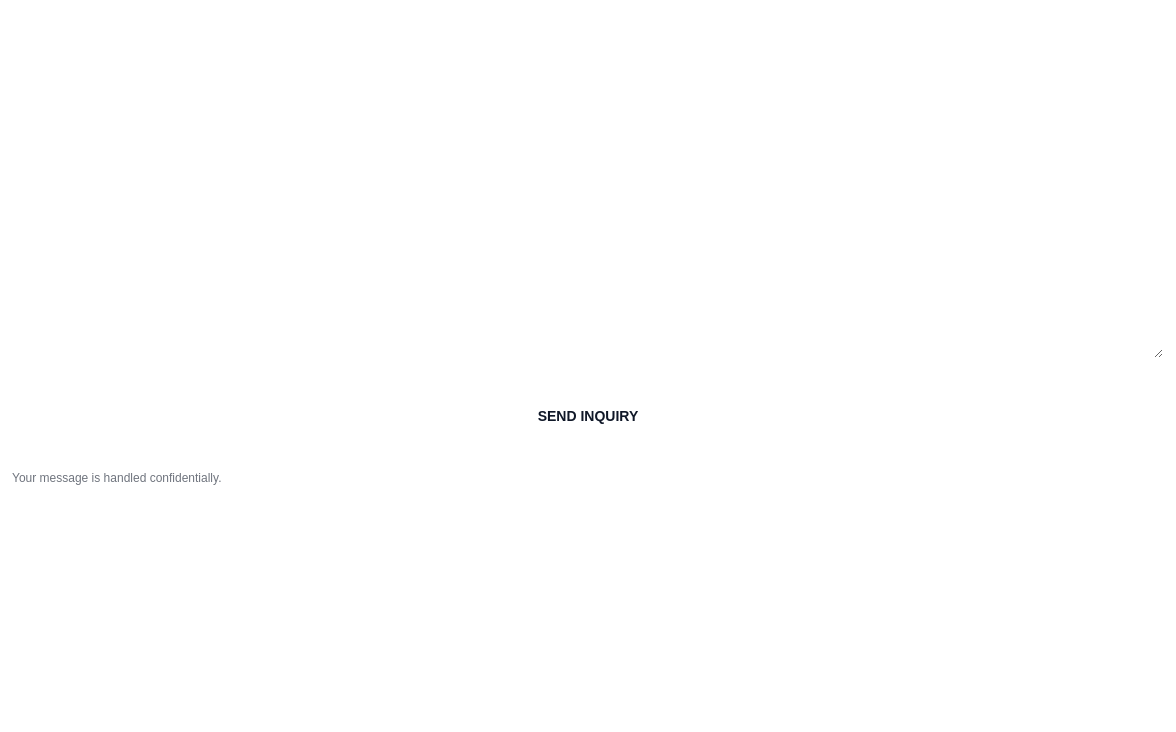
ContactInquiryForm › focuses and announces the first invalid field
Click the button "Send inquiry": click(588, 416) [12,391,1164,442]
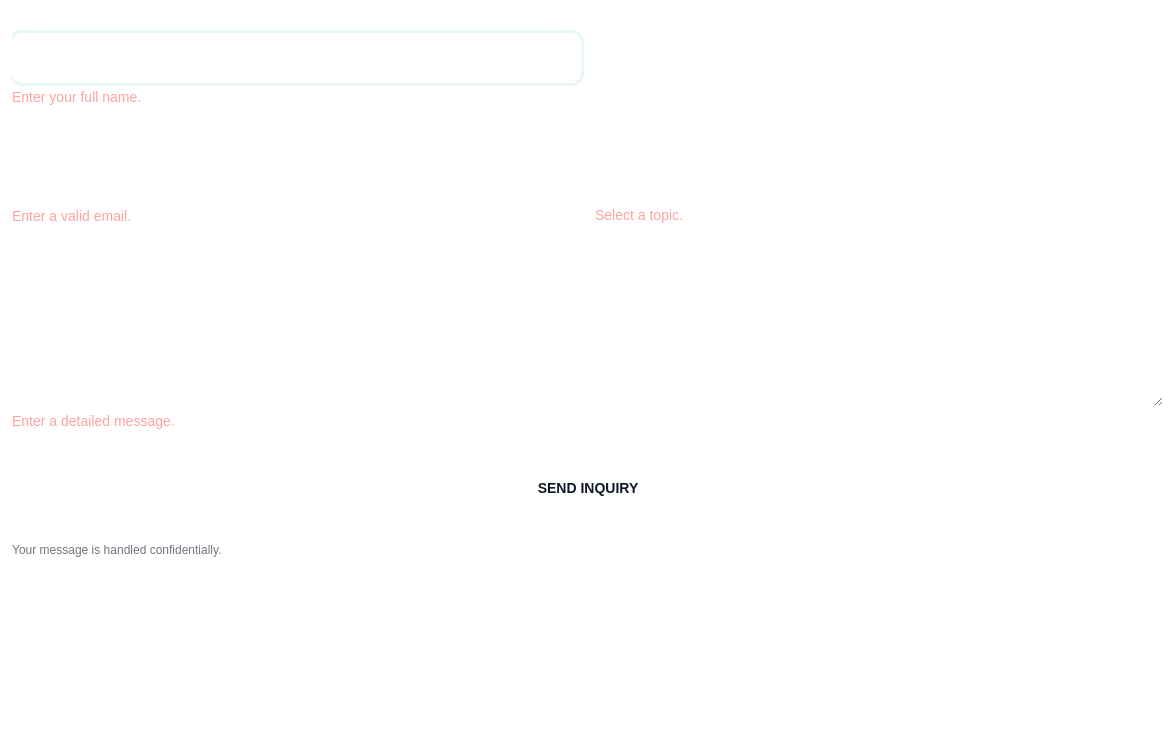
expect the text "Enter your full name." is shown: met, box [12,89,141,105]
